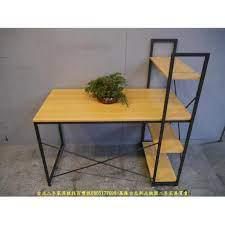desk: (20, 36, 207, 185)
